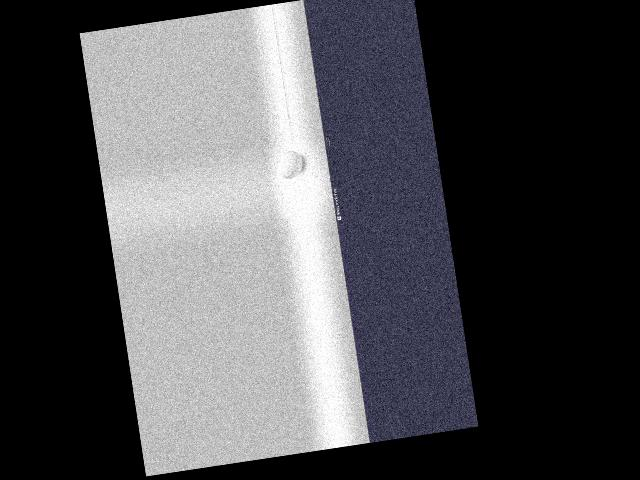egg: (276, 148, 305, 179)
